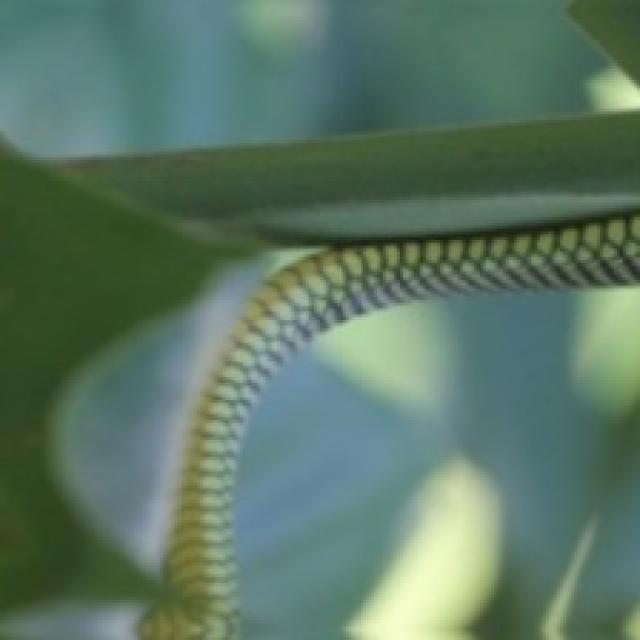paradise tree snake: (140, 209, 637, 637), (143, 209, 637, 637), (354, 457, 497, 629), (400, 114, 637, 186)
